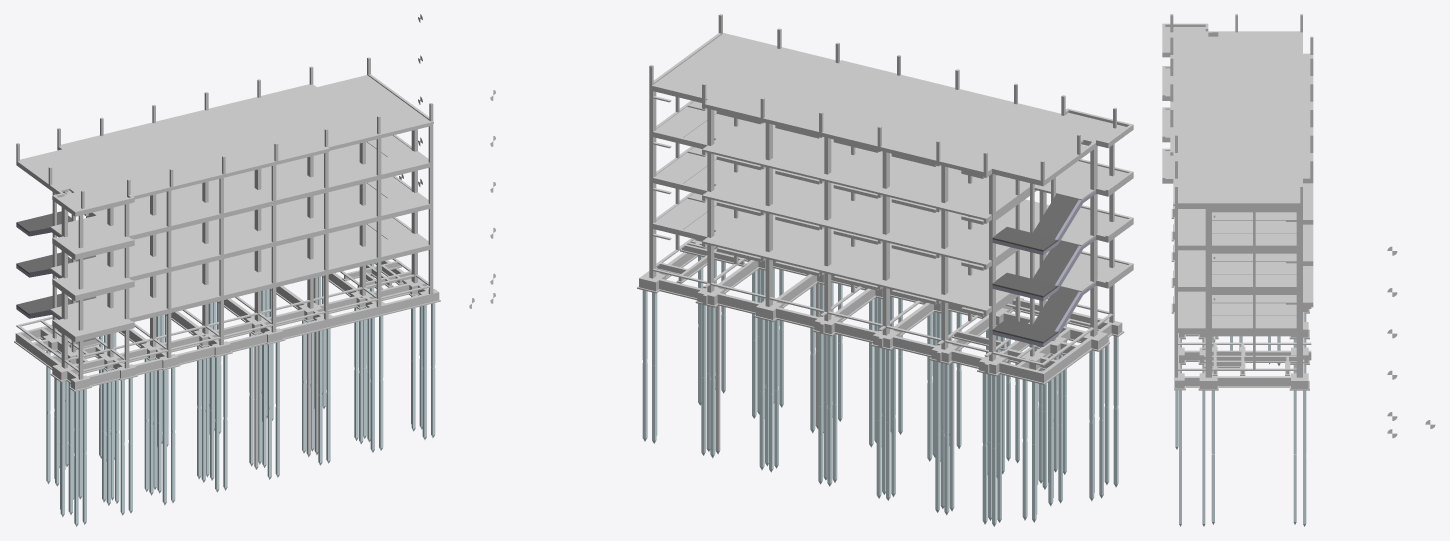
Rendered from Structure (1).fbx.
3 renders of one model, left to right at view 1: azimuth 30°, elevation 25°; view 2: azimuth 150°, elevation 25°; view 3: azimuth 270°, elevation 25°, orthographic. The views are drawn at different scales.
Parts seen in each view (by area): view 1: Floor IICM-S-SFL-Sàn(150) [775691], Floor IICM-S-SFL-Sàn(150) [839827], Floor IICM-S-SFL-Sàn(150) [859645], Floor IICM-S-SFL-Sàn(150) [864775], M_Concrete-Rectangular Beam IICM-S-SFr-GM(300x700) [450261], M_Concrete-Rectangular Beam IICM-S-SFr-GM(300x700) [452558], M_Concrete-Rectangular Beam IICM-S-SFr-GT(220x100) [454347], M_Concrete-Rectangular Beam IICM-S-SFr-D(220x400) [754612], M_Concrete-Rectangular Beam IICM-S-SFr-DM D12(220x300) [7750, M_Concrete-Rectangular Beam IICM-S-SFr-D(220x400) [750396], M_Concrete-Rectangular Beam IICM-S-SFr-D(220x400) [731199], M_Concrete-Rectangular Beam IICM-S-SFr-GT(220x100) [455307] (+7 smaller); view 2: Floor IICM-S-SFL-Sàn(150) [775691], Floor IICM-S-SFL-Sàn(150) [864775], Floor IICM-S-SFL-Sàn(150) [859645], Floor IICM-S-SFL-Sàn(150) [839827], M_Concrete-Rectangular Beam IICM-S-SFr-GM(300x700) [451695], Floor IICM-S-SFL-Sàn(150) [769137], Floor IICM-S-SFL-Sàn(150) [759529], Floor IICM-S-SFL-Sàn(150) [769230], M_Concrete-Rectangular Beam IICM-S-SFr-GT(220x100) [454593], M_Concrete-Rectangular Beam IICM-S-SFr-DM D12(220x300) [7702, Bản thang 3 Bản thang 2 [932535], Bản thang 2 Bản thang 2 [929303] (+4 smaller); view 3: Floor IICM-S-SFL-Sàn(150) [775691], Floor IICM-S-SFL-Sàn(150) [839827], Floor IICM-S-SFL-Sàn(150) [864775], Floor IICM-S-SFL-Sàn(150) [859645], Floor IICM-S-SFL-Sàn(150) [759529], Floor IICM-S-SFL-Sàn(150) [769230], Floor IICM-S-SFL-Sàn(150) [769137], M_Concrete-Rectangular Beam 220 x 800mm 2 [755930], M_Concrete-Rectangular Beam IICM-S-SFr-GM(300x700) [451344], M_Concrete-Rectangular Beam IICM-S-SFr-D(220x700) [754487], M_Concrete-Rectangular Beam IICM-S-SFr-D(220x700) [488466], M_Concrete-Rectangular Beam IICM-S-SFr-D(220x700) [750270] (+5 smaller).
Boxes of the visible parts, x1=… form: Floor IICM-S-SFL-Sàn(150) [775691]: x1=16, y1=75, x2=433, y2=214; Floor IICM-S-SFL-Sàn(150) [839827]: x1=50, y1=230, x2=433, y2=334; Floor IICM-S-SFL-Sàn(150) [859645]: x1=50, y1=189, x2=433, y2=293; Floor IICM-S-SFL-Sàn(150) [864775]: x1=50, y1=147, x2=433, y2=252; M_Concrete-Rectangular Beam IICM-S-SFr-GM(300x700) [450261]: x1=87, y1=294, x2=423, y2=385; M_Concrete-Rectangular Beam IICM-S-SFr-GM(300x700) [452558]: x1=74, y1=283, x2=409, y2=373; M_Concrete-Rectangular Beam IICM-S-SFr-GT(220x100) [454347]: x1=80, y1=285, x2=433, y2=372; M_Concrete-Rectangular Beam IICM-S-SFr-D(220x400) [754612]: x1=130, y1=164, x2=433, y2=239; M_Concrete-Rectangular Beam IICM-S-SFr-DM D12(220x300) [7750: x1=132, y1=147, x2=329, y2=199; M_Concrete-Rectangular Beam IICM-S-SFr-D(220x400) [750396]: x1=130, y1=206, x2=429, y2=280; M_Concrete-Rectangular Beam IICM-S-SFr-D(220x400) [731199]: x1=130, y1=247, x2=429, y2=321; M_Concrete-Rectangular Beam IICM-S-SFr-GT(220x100) [455307]: x1=67, y1=274, x2=415, y2=360; Floor IICM-S-SFL-Sàn(150) [775691]: x1=649, y1=33, x2=1132, y2=183; Floor IICM-S-SFL-Sàn(150) [864775]: x1=702, y1=120, x2=1127, y2=220; Floor IICM-S-SFL-Sàn(150) [859645]: x1=702, y1=166, x2=1127, y2=266; Floor IICM-S-SFL-Sàn(150) [839827]: x1=702, y1=212, x2=1127, y2=312; M_Concrete-Rectangular Beam IICM-S-SFr-GM(300x700) [451695]: x1=659, y1=278, x2=1045, y2=382; Floor IICM-S-SFL-Sàn(150) [769137]: x1=655, y1=147, x2=741, y2=189; Floor IICM-S-SFL-Sàn(150) [759529]: x1=655, y1=193, x2=741, y2=235; Floor IICM-S-SFL-Sàn(150) [769230]: x1=655, y1=101, x2=741, y2=143; M_Concrete-Rectangular Beam IICM-S-SFr-GT(220x100) [454593]: x1=649, y1=268, x2=1044, y2=366; M_Concrete-Rectangular Beam IICM-S-SFr-DM D12(220x300) [7702: x1=705, y1=104, x2=983, y2=175; Bản thang 3 Bản thang 2 [932535]: x1=1033, y1=195, x2=1078, y2=238; Bản thang 2 Bản thang 2 [929303]: x1=1033, y1=288, x2=1077, y2=330; Floor IICM-S-SFL-Sàn(150) [775691]: x1=1165, y1=27, x2=1313, y2=205; Floor IICM-S-SFL-Sàn(150) [839827]: x1=1165, y1=151, x2=1313, y2=329; Floor IICM-S-SFL-Sàn(150) [864775]: x1=1165, y1=68, x2=1313, y2=247; Floor IICM-S-SFL-Sàn(150) [859645]: x1=1165, y1=109, x2=1313, y2=288; Floor IICM-S-SFL-Sàn(150) [759529]: x1=1212, y1=303, x2=1296, y2=327; Floor IICM-S-SFL-Sàn(150) [769230]: x1=1212, y1=220, x2=1296, y2=244; Floor IICM-S-SFL-Sàn(150) [769137]: x1=1212, y1=262, x2=1296, y2=285; M_Concrete-Rectangular Beam 220 x 800mm 2 [755930]: x1=1205, y1=202, x2=1302, y2=212; M_Concrete-Rectangular Beam IICM-S-SFr-GM(300x700) [451344]: x1=1184, y1=376, x2=1290, y2=385; M_Concrete-Rectangular Beam IICM-S-SFr-D(220x700) [754487]: x1=1205, y1=247, x2=1302, y2=253; M_Concrete-Rectangular Beam IICM-S-SFr-D(220x700) [488466]: x1=1205, y1=330, x2=1302, y2=336; M_Concrete-Rectangular Beam IICM-S-SFr-D(220x700) [750270]: x1=1205, y1=288, x2=1302, y2=294.
Size of the model in its own units: 4208 by 2946 by 2156.
